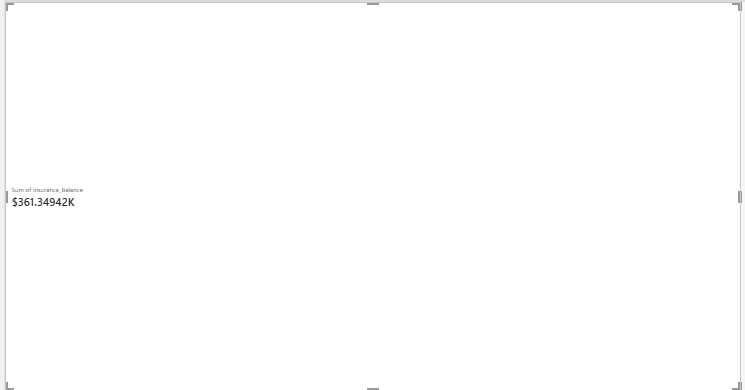

The page's visual inventory and layout, read from the dashboard file:
{"tool":"powerbi","page":{"name":"Total outstanding KPI Card","canvas":[1920,1080],"ordinal":0},"visuals":[{"type":"cardVisual","fields":{"Data":["Sum(ar_report.insurance_balance)"]},"box":[534.2,209.1,280,280],"z":0}]}

Visuals, with their boxes on the page's 1920x1080 design canvas (x1, y1, x2, y2). These are canvas units, not pixel positions in the 745x390 screenshot, which may show the page scaled, cropped or inside an application window:
cardVisual - Sum(ar_report.insurance_balance): {"left": 534, "top": 209, "right": 814, "bottom": 489}
